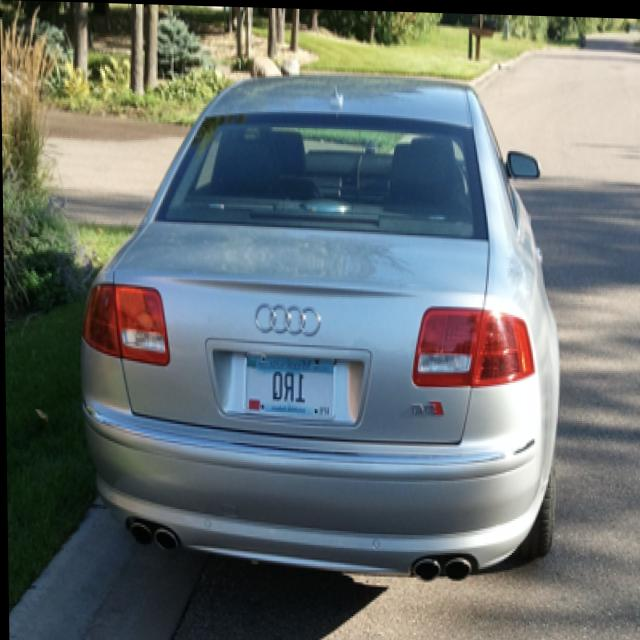licence: (238, 354, 341, 414)
